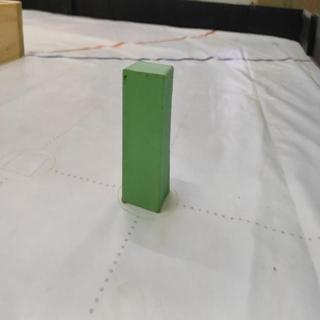greenbox: (121, 57, 178, 216)
